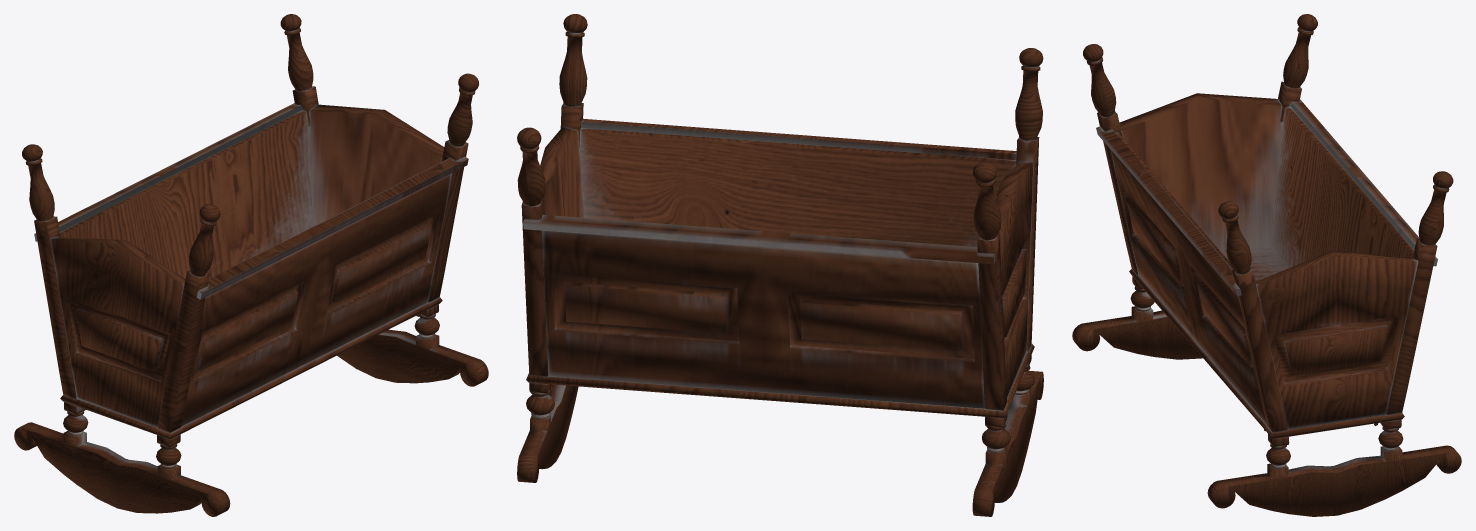
File: wooers_alley_cottage_-_queen_marys_cradle.glb
The picture shows the model from 3 angles, left to right: view 1: azimuth 30°, elevation 25°; view 2: azimuth 150°, elevation 25°; view 3: azimuth 270°, elevation 25°; orthographic projection. The views are drawn at different scales.
Visible parts, largest first — view 1: Object_2; view 2: Object_2; view 3: Object_2.
Part boxes in pixels (x1,y1,x2,y2): Object_2: [14, 14, 488, 516]; Object_2: [517, 14, 1043, 516]; Object_2: [1072, 14, 1461, 516].
Size of the model in its own units: 123 by 93.04 by 101.
1 material, 1 textured.
